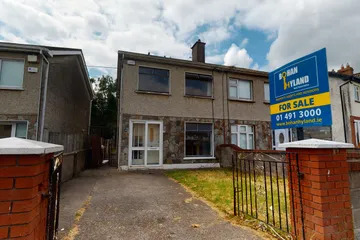property sign: (257, 46, 345, 138)
